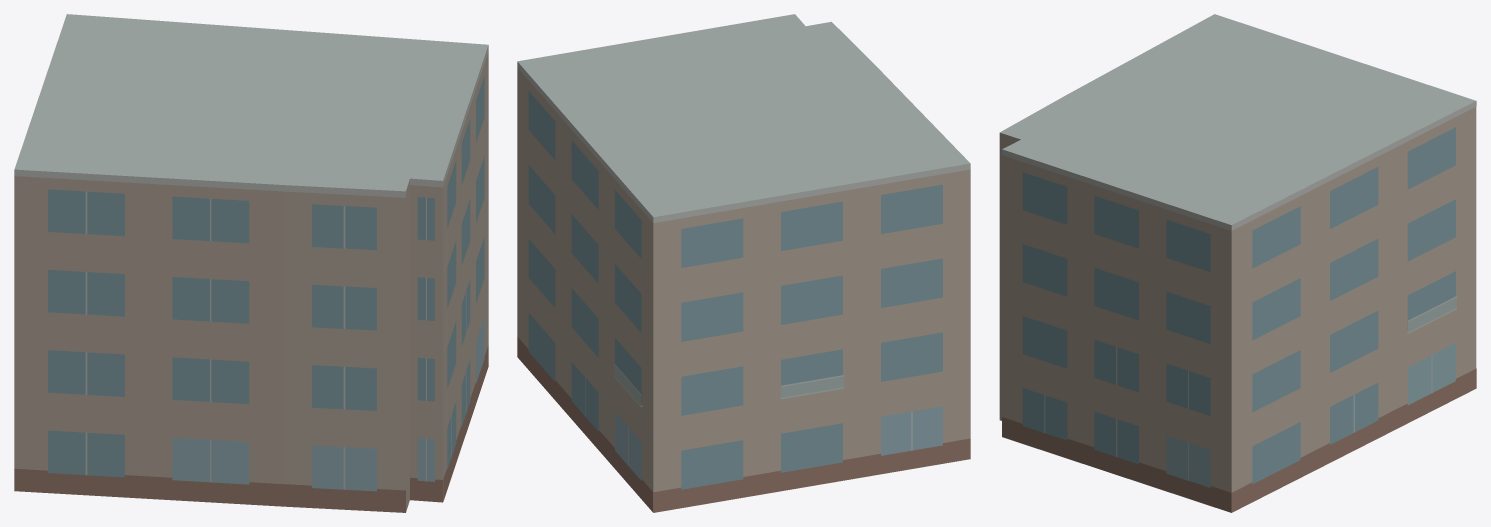
The model's file is survey-upis-32894211.glb.
3 renders of one model, left to right at view 1: azimuth 30°, elevation 25°; view 2: azimuth 150°, elevation 25°; view 3: azimuth 270°, elevation 25°, orthographic. The views are drawn at different scales.
Parts seen in each view (by area): view 1: survey-upis-32894211.tmp; view 2: survey-upis-32894211.tmp; view 3: survey-upis-32894211.tmp.
Boxes of the visible parts, box(x1,y1,x2,y2) form: survey-upis-32894211.tmp: box(14, 14, 488, 512); survey-upis-32894211.tmp: box(517, 14, 970, 512); survey-upis-32894211.tmp: box(999, 14, 1476, 512).
Bounding box in the file's own units: 19.22 × 12.2 × 18.34.
